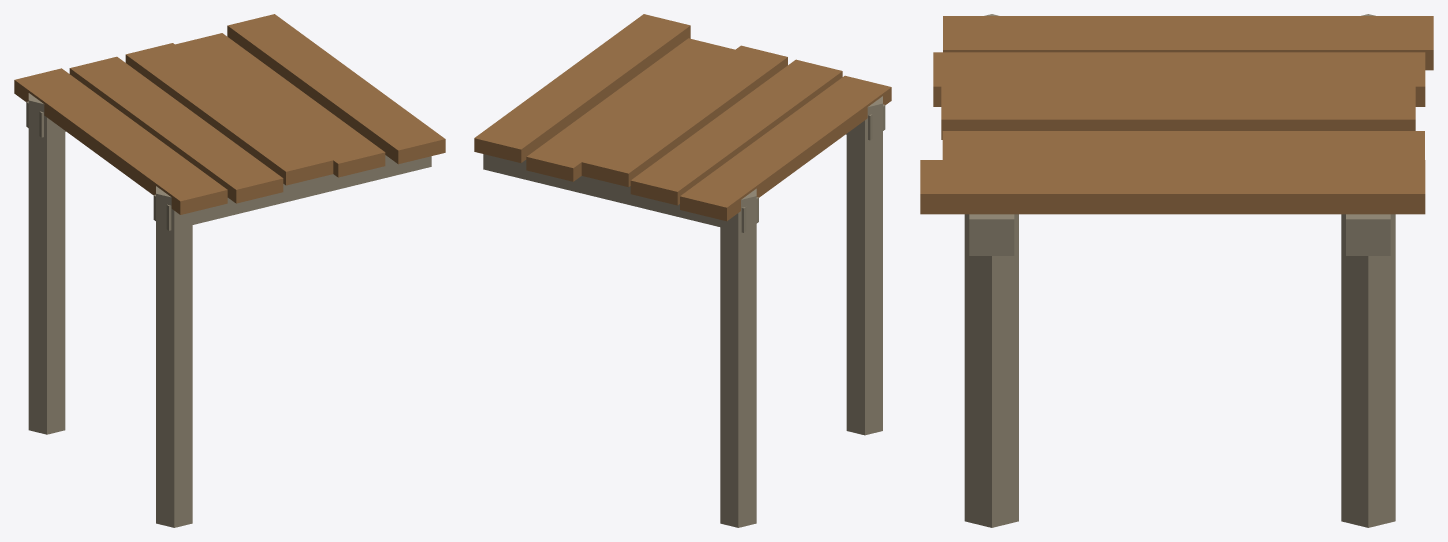
The model's file is JettySpan.fbx.
The picture shows the model from 3 angles, left to right: view 1: azimuth 30°, elevation 25°; view 2: azimuth 150°, elevation 25°; view 3: azimuth 270°, elevation 25°; orthographic projection. The views are drawn at different scales.
Visible parts, largest first — view 1: JettySpan; view 2: JettySpan; view 3: JettySpan.
Part boxes in pixels (x1=…): JettySpan: x1=14, y1=14, x2=445, y2=527; JettySpan: x1=474, y1=14, x2=891, y2=527; JettySpan: x1=920, y1=14, x2=1433, y2=527.
Bounding box in the file's own units: 1.02 × 1.23 × 1.15.
